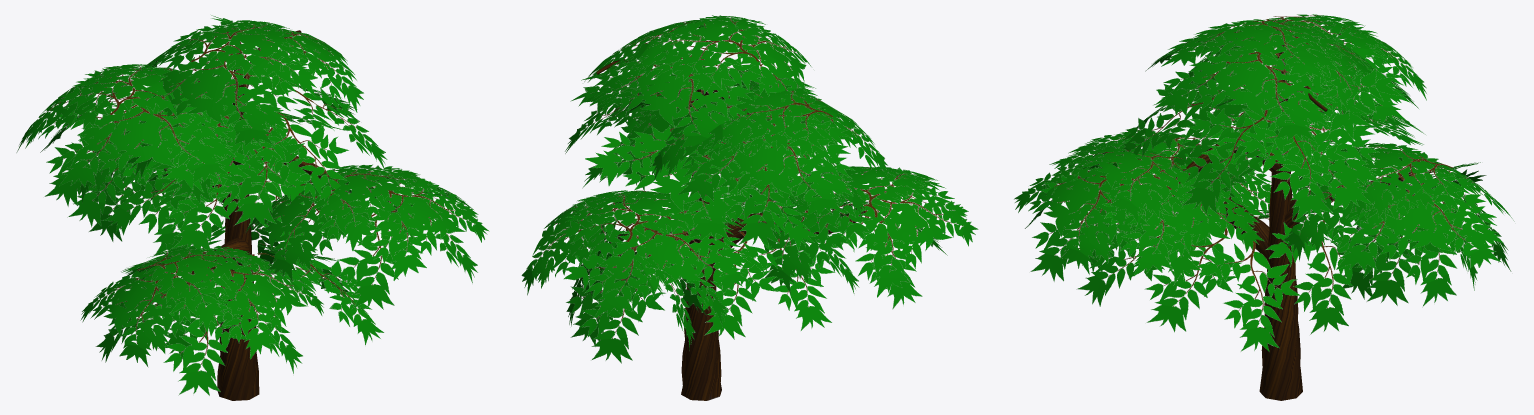
Rendered from tree02_fin.fbx.
3 views of the same model, side by side, from view 1: azimuth 30°, elevation 25°; view 2: azimuth 150°, elevation 25°; view 3: azimuth 270°, elevation 25° (orthographic). The views are drawn at different scales.
Parts seen in each view (by area): view 1: pPlane54, wood01; view 2: pPlane54, wood01; view 3: pPlane54, wood01.
Boxes of the visible parts, x1=… form: pPlane54: x1=16, y1=15, x2=489, y2=395; wood01: x1=164, y1=30, x2=369, y2=400; pPlane54: x1=521, y1=15, x2=978, y2=363; wood01: x1=596, y1=50, x2=865, y2=400; pPlane54: x1=1014, y1=14, x2=1514, y2=351; wood01: x1=1161, y1=45, x2=1415, y2=400.
Size of the model in its own units: 57.85 by 54.77 by 70.33.
Materials: 1 (1 with a texture image).
